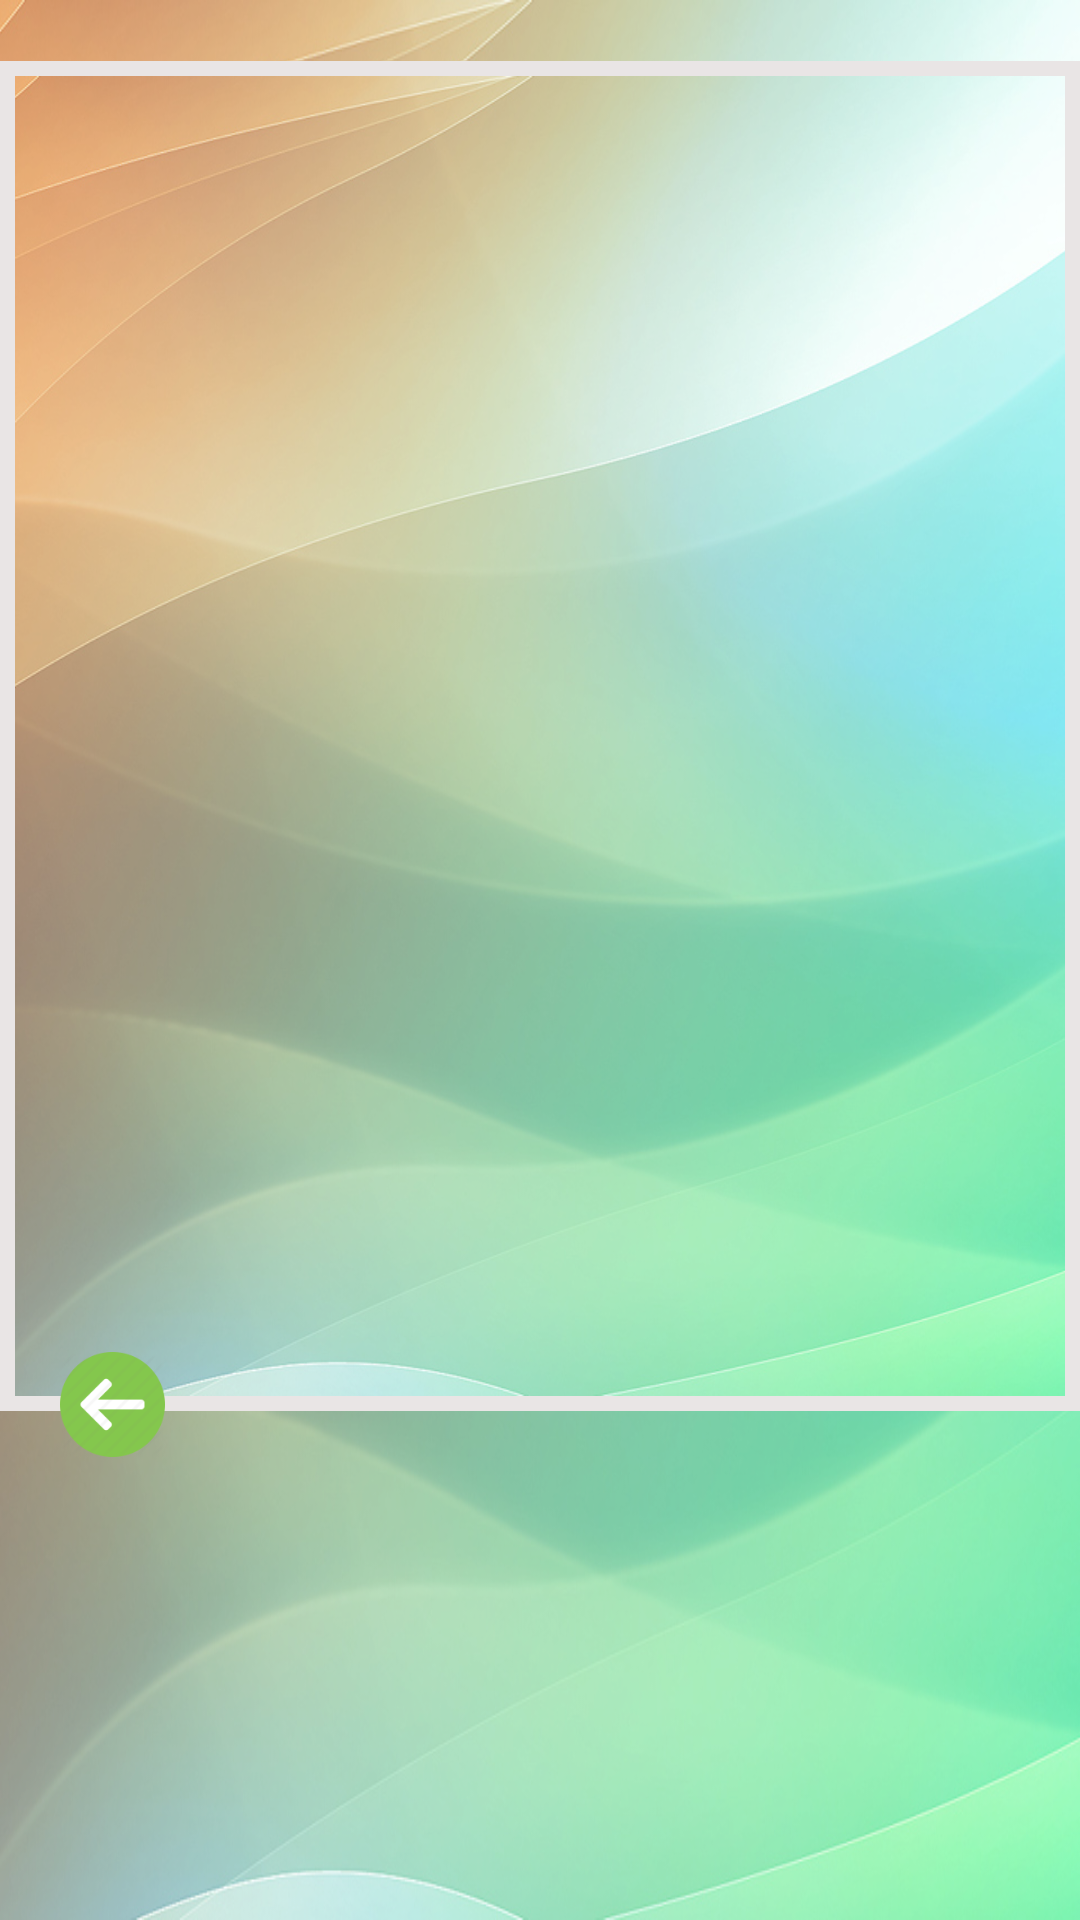

Named icons in this screenshot (1080 x 1920) and their centers, [x,y]:
prevbutton: [112,1404]
